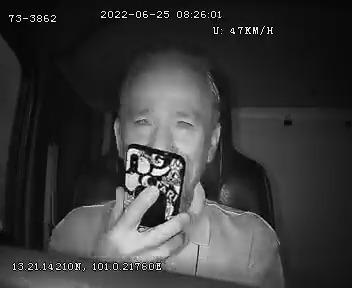PhoneUse: (120, 135, 190, 253)
